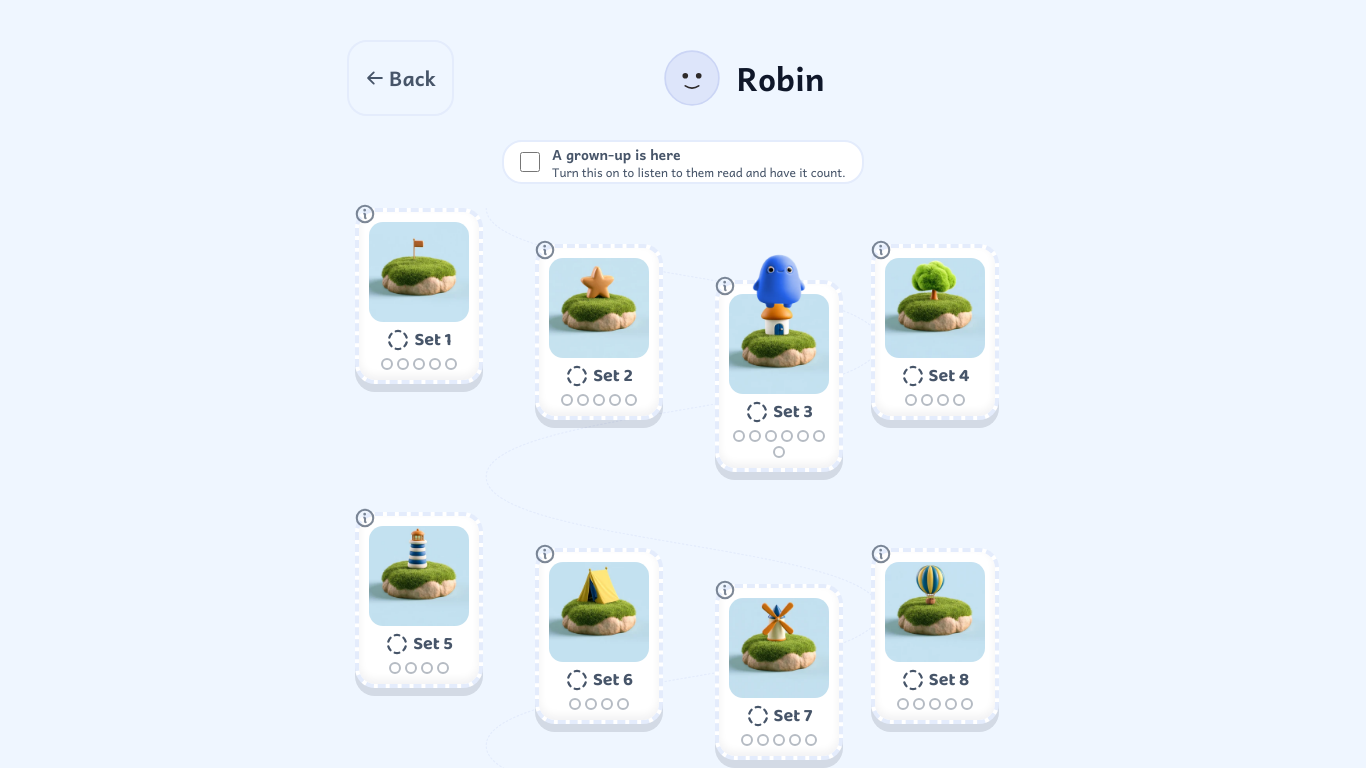
Test case: the words on each island, for the adult › is on the family map too
Click the button with test id "island-info-3". click: click(725, 286)
box: [703,264,747,308]
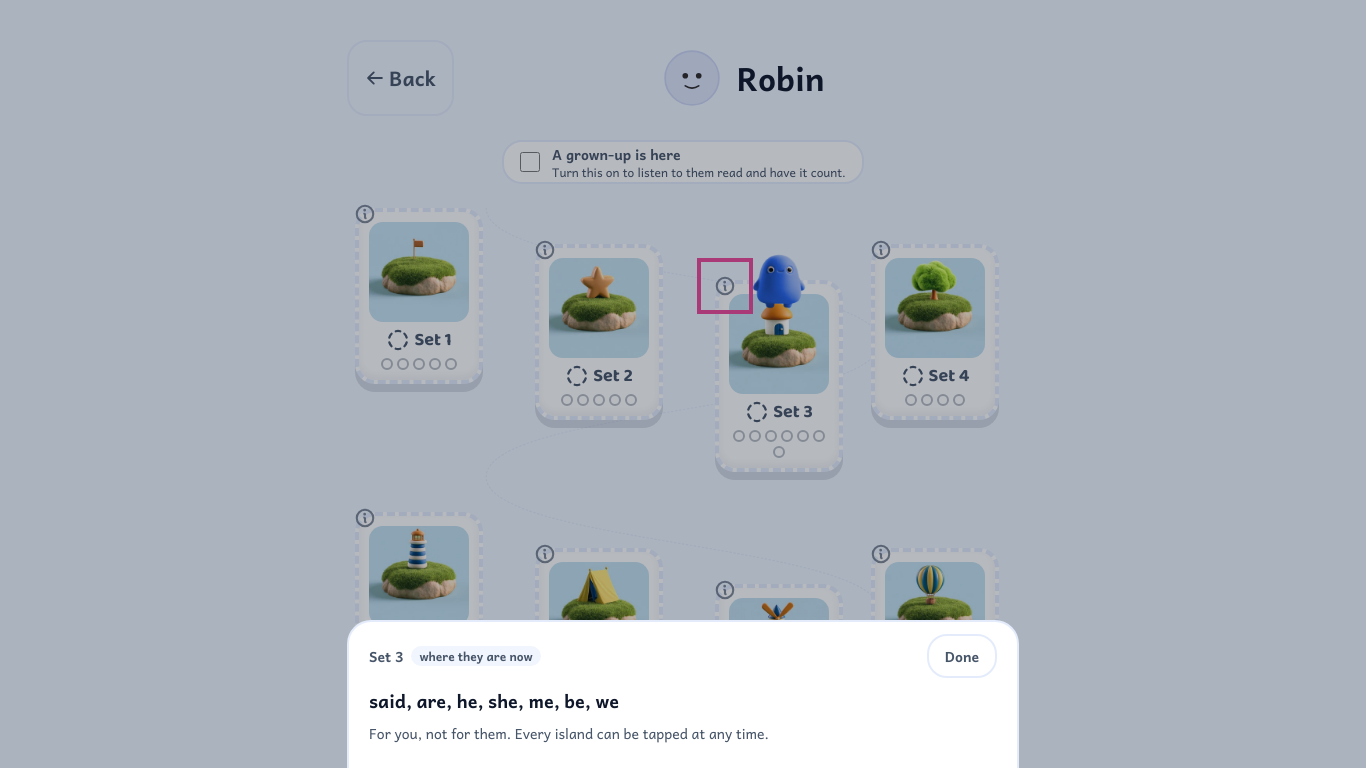
Now the text "where they are now" is shown, box [411,646,541,666]
